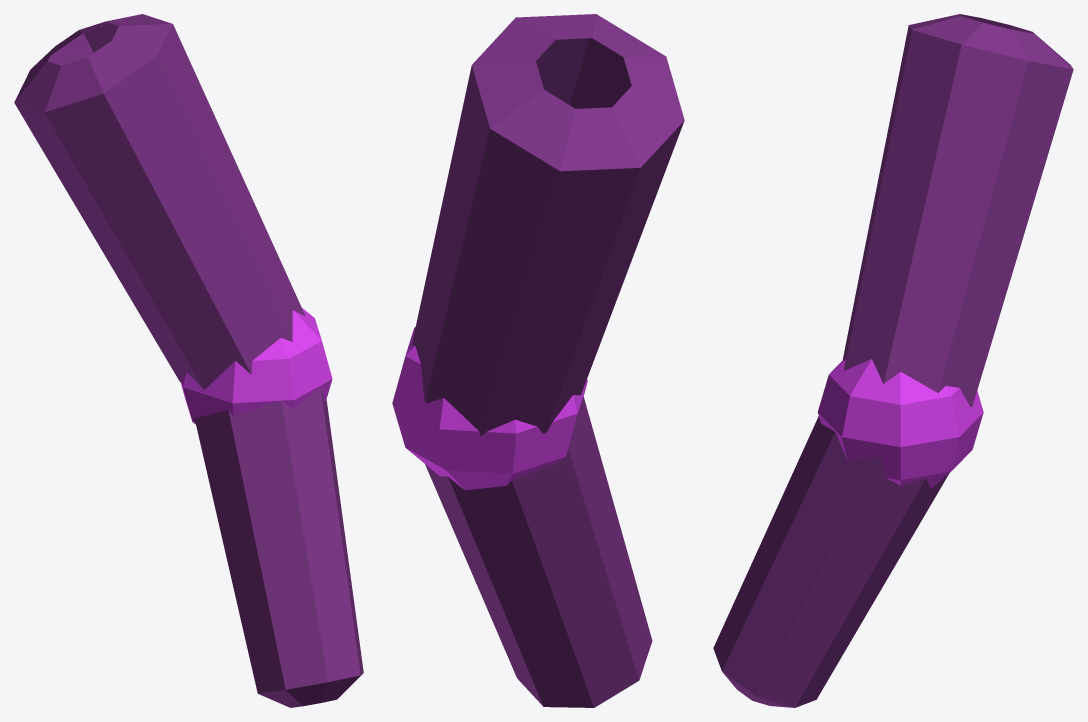
File: imp_shaman_arm_R.obj
3 renders of one model, left to right at view 1: azimuth 30°, elevation 25°; view 2: azimuth 150°, elevation 25°; view 3: azimuth 270°, elevation 25°, orthographic. The views are drawn at different scales.
Visible parts, largest first — view 1: arm_upper_R, arm_lower_R, arm_joint_R; view 2: arm_upper_R, arm_lower_R, arm_joint_R; view 3: arm_upper_R, arm_lower_R, arm_joint_R.
Part boxes in pixels (<box>): arm_upper_R: <box>14,14,305,389</box>; arm_lower_R: <box>194,387,363,707</box>; arm_joint_R: <box>180,308,332,424</box>; arm_upper_R: <box>412,14,684,435</box>; arm_lower_R: <box>425,397,652,707</box>; arm_joint_R: <box>392,327,587,490</box>; arm_upper_R: <box>842,14,1073,406</box>; arm_lower_R: <box>713,416,949,707</box>; arm_joint_R: <box>817,359,983,488</box>.
Bounding box in the file's own units: 0.2245 × 0.529 × 0.2716.
